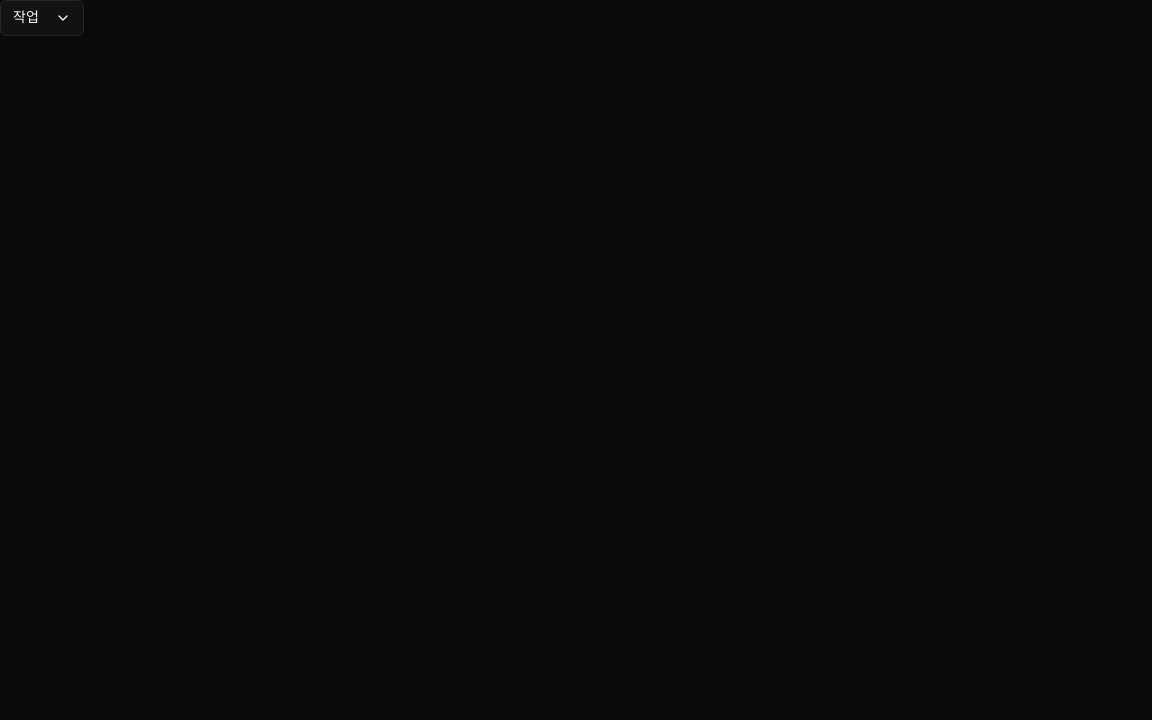
Test: PartyroomsActionsDropdown — status-aware disabled › clicking enabled 재개 on SUSPENDED opens restore dialog
Click the button "작업".
click(42, 18)  # box [0,0,84,36]
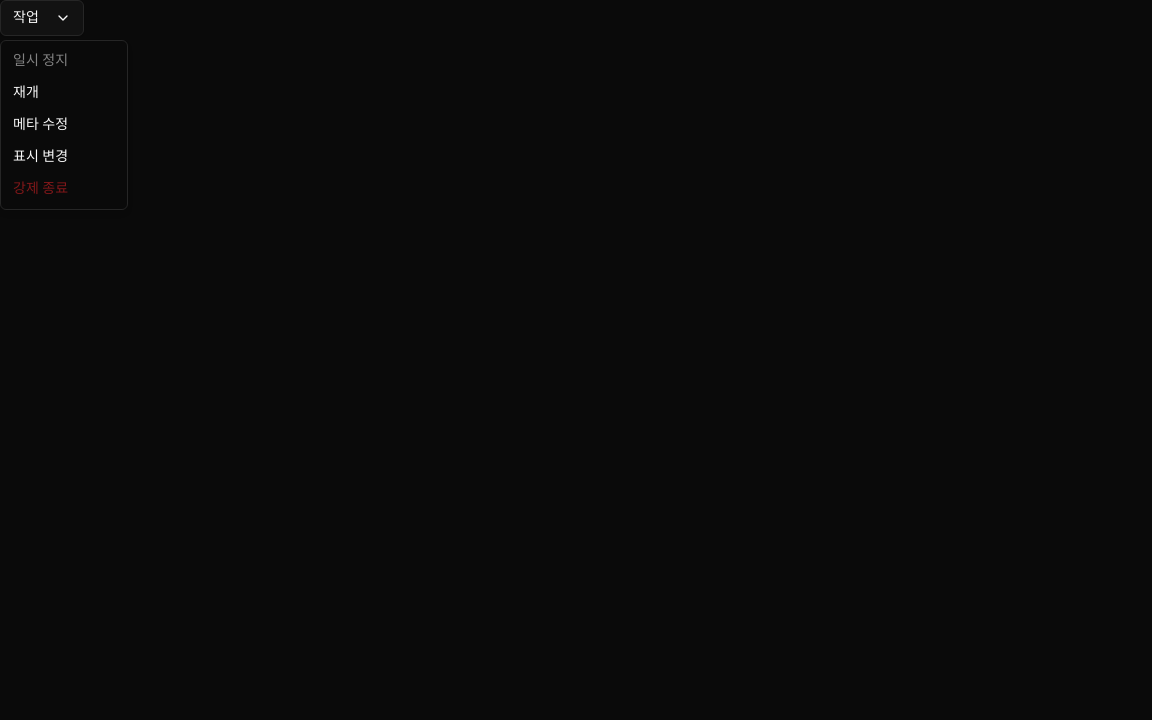
Click the menu item "재개".
click(26, 92)  # box [13,85,39,100]
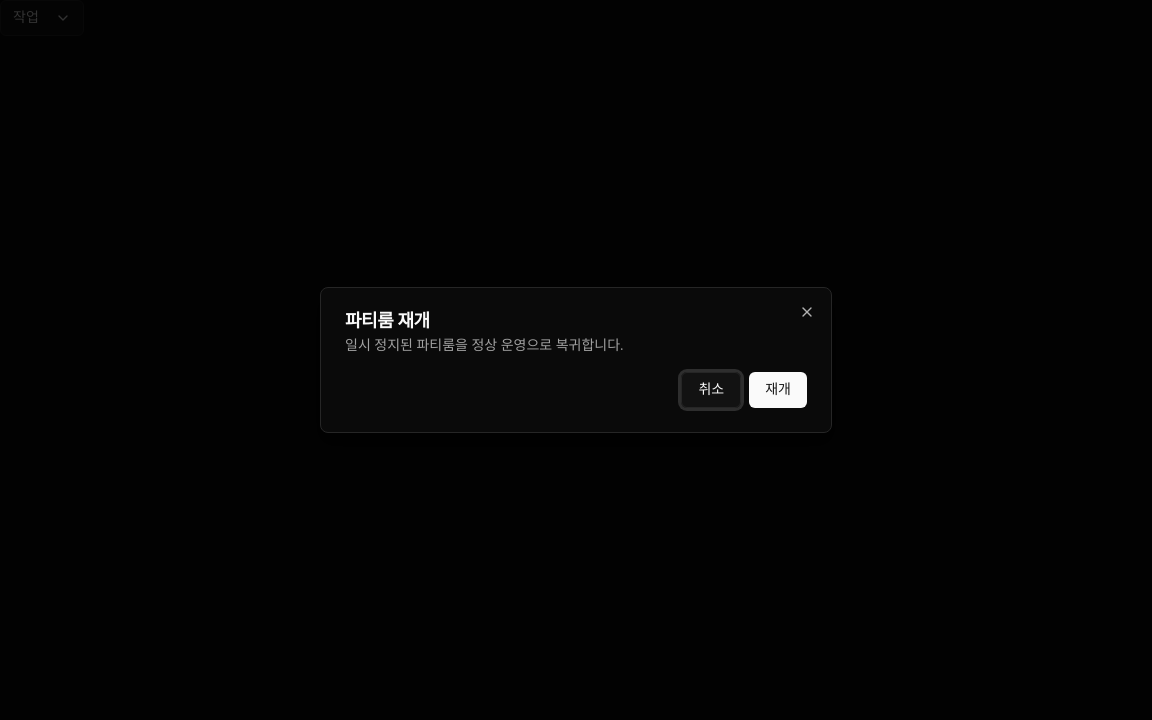
Expected: the heading "파티룸 재개" is shown, [345,311,430,331]
